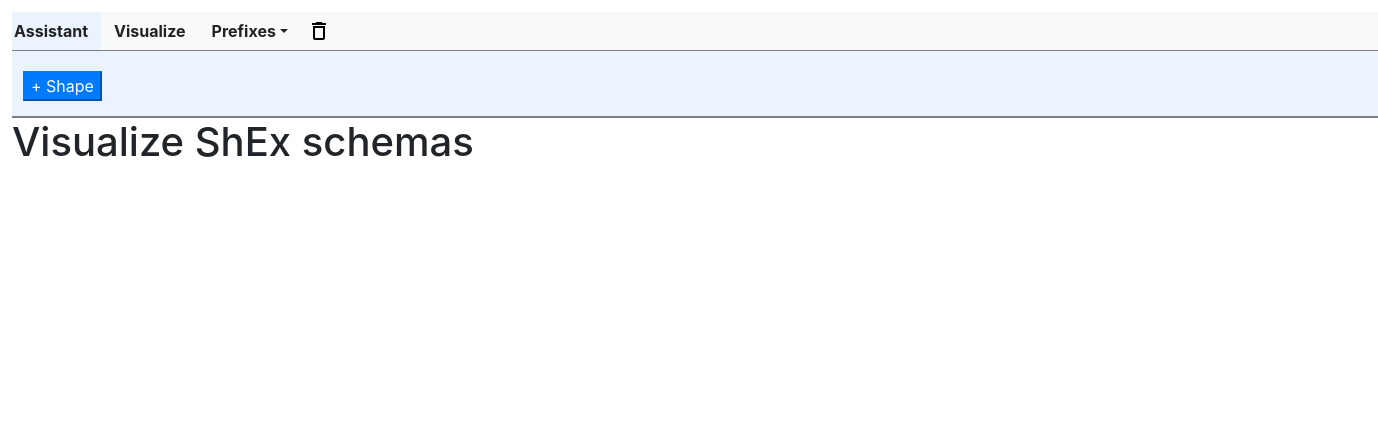
it: Clear All
This screenshot has width=1378, height=440.
Note: Create a Shape
Click the button "+ Shape": point(62, 86) left=23, top=71, right=102, bottom=101
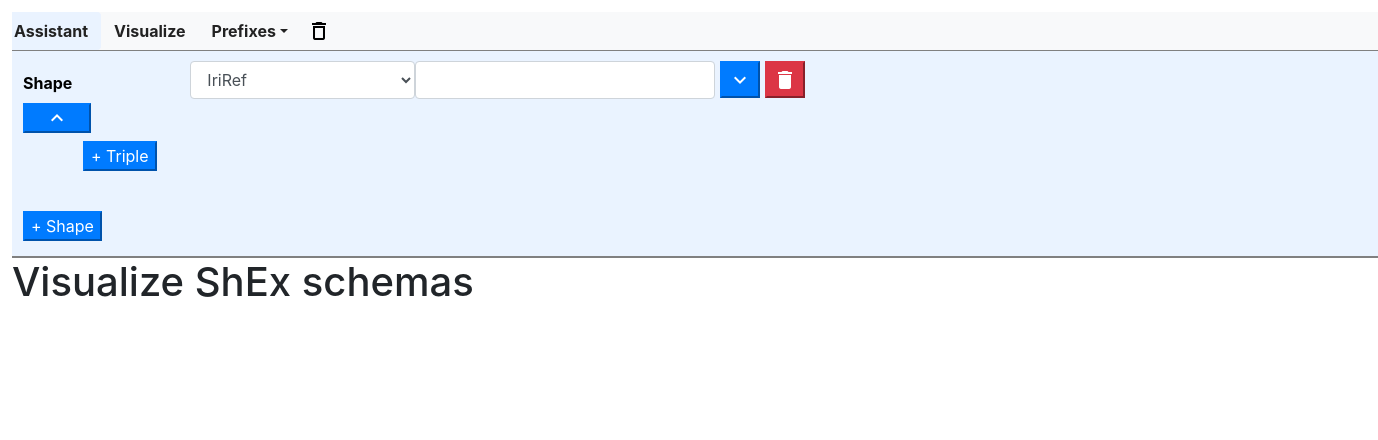
Note: Create Triples
Click the button "+ Triple": point(120, 156) left=83, top=141, right=157, bottom=171
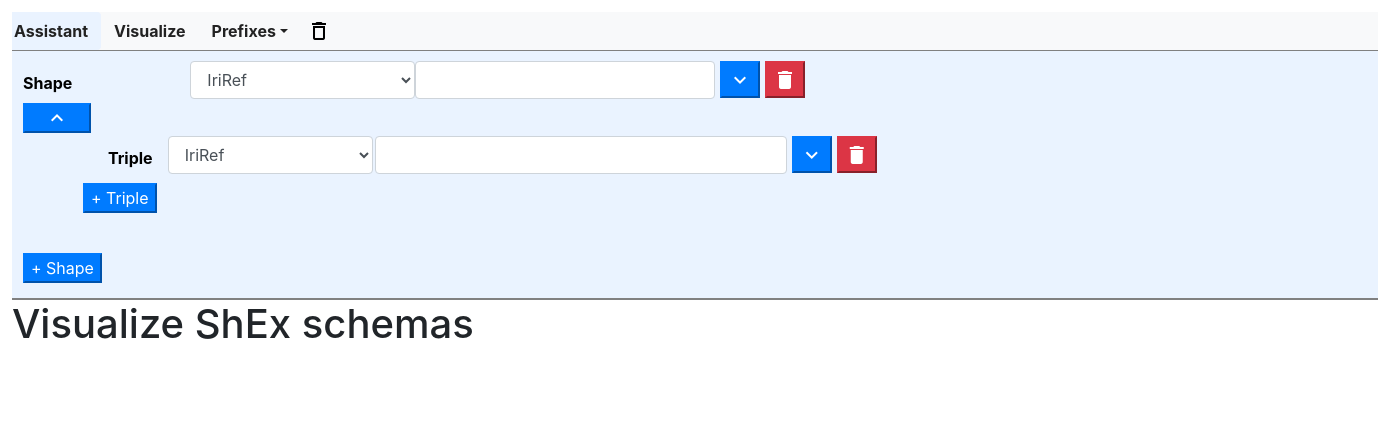
Click the button "+ Triple": point(120, 198) left=83, top=183, right=157, bottom=213
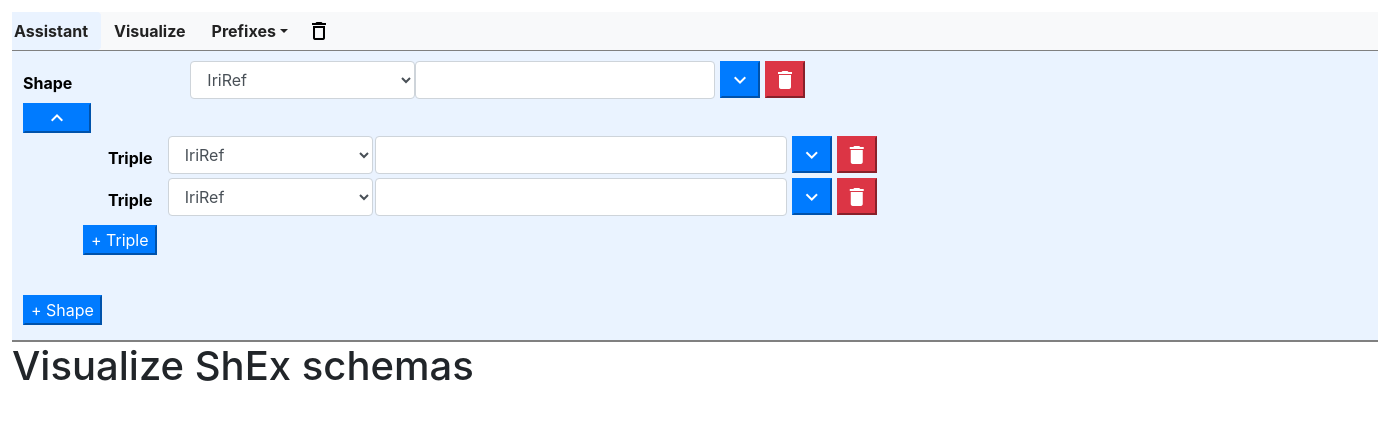
Click the button "+ Triple": point(120, 240) left=83, top=225, right=157, bottom=255
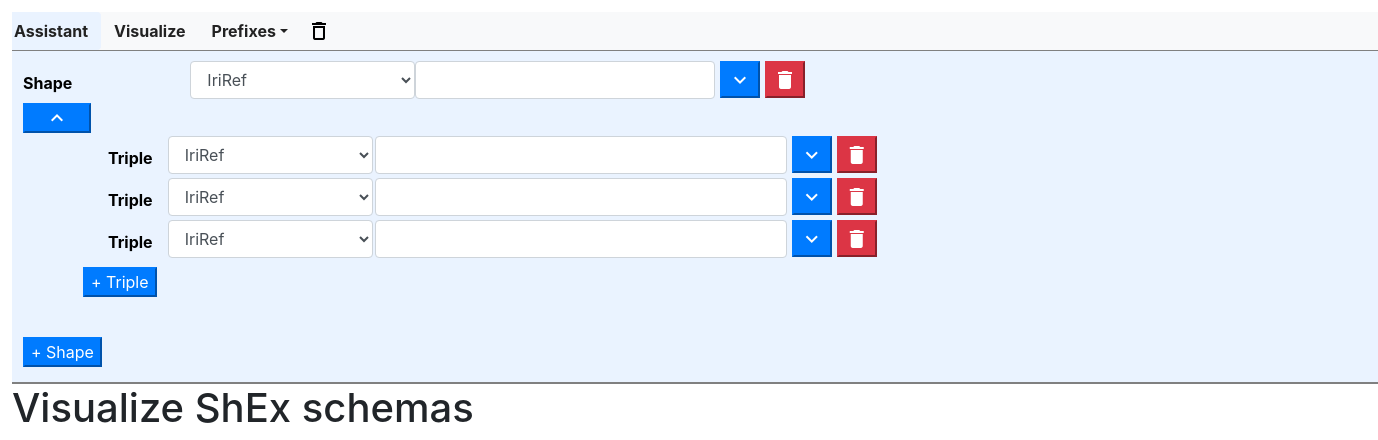
Click the button with id "clearAll": point(319, 31) left=301, top=12, right=337, bottom=50
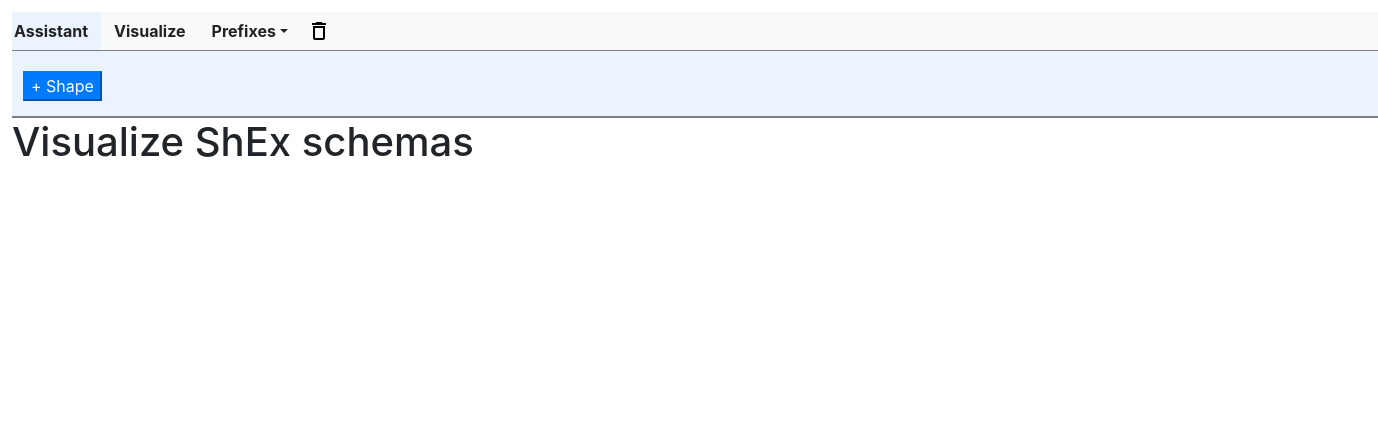
Expected: the button "+ Shape" is shown, left=23, top=71, right=102, bottom=101
Now the text "Triple" is gone
Now the button "+ Triple" is gone
